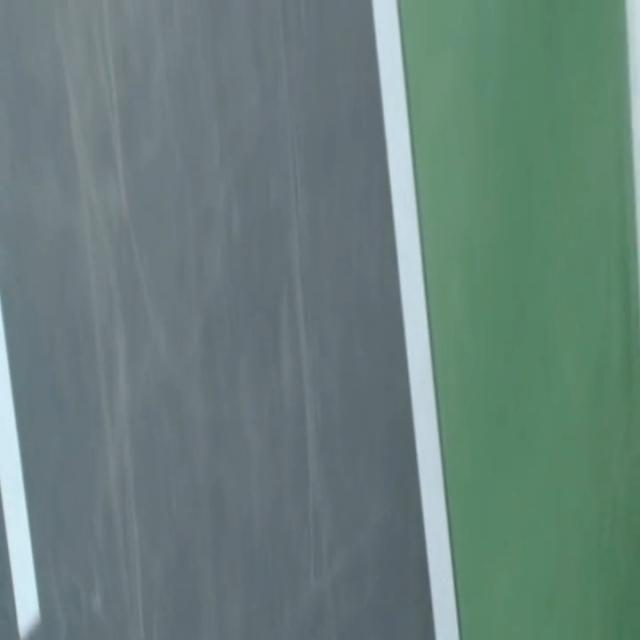center: (0, 297, 40, 639)
right: (372, 0, 459, 639)
